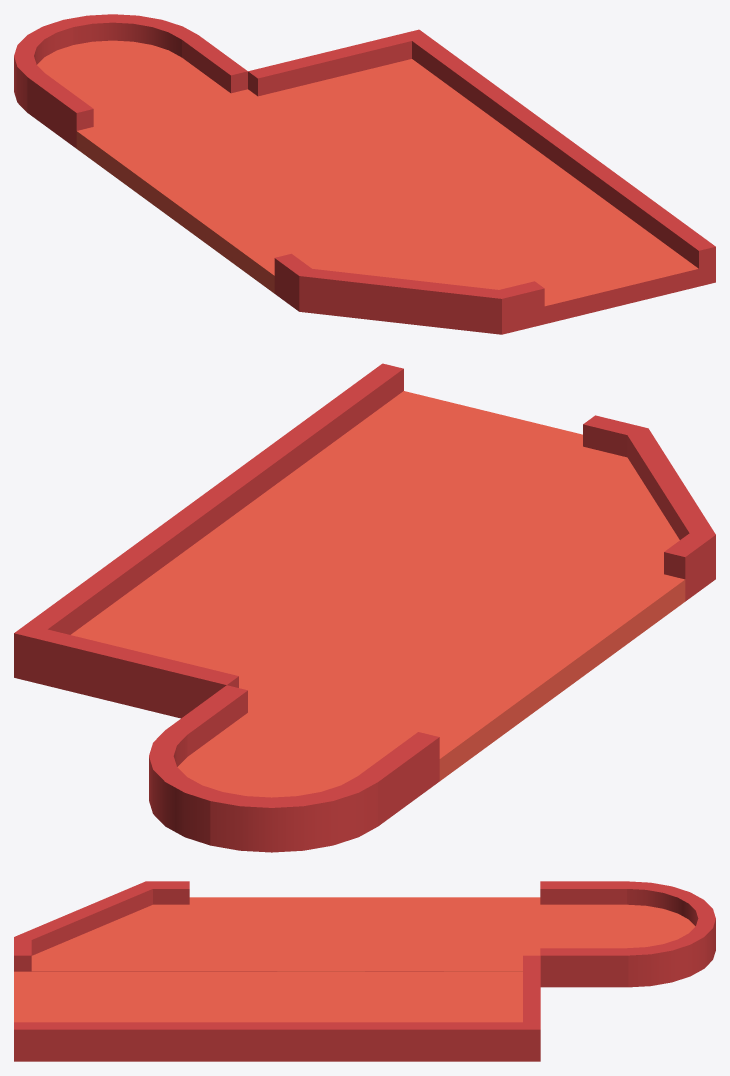
The model's file is Part1 Rotated.fbx.
3 views of the same model, one above another, from view 1: azimuth 30°, elevation 25°; view 2: azimuth 150°, elevation 25°; view 3: azimuth 270°, elevation 25° (orthographic). The views are drawn at different scales.
Parts seen in each view (by area): view 1: roof_flatEdge (×2), roof_flatCenter (×2), roof_flatCorner, roof_flatRoundOpen, roof_flatCornerLargeOpen; view 2: roof_flatEdge (×2), roof_flatCenter (×2), roof_flatCorner, roof_flatRoundOpen, roof_flatCornerLargeOpen; view 3: roof_flatEdge (×2), roof_flatCenter (×2), roof_flatRoundOpen, roof_flatCorner, roof_flatCornerLargeOpen.
Part boxes in pixels (x1,y1,x2,y2): roof_flatEdge (×2): (347, 102, 715, 323); roof_flatCenter (×2): (76, 89, 445, 293); roof_flatCorner: (248, 29, 517, 161); roof_flatRoundOpen: (14, 14, 247, 148); roof_flatCornerLargeOpen: (274, 234, 544, 334); roof_flatEdge (×2): (137, 363, 582, 617); roof_flatCenter (×2): (248, 527, 685, 780); roof_flatCorner: (14, 543, 349, 718); roof_flatRoundOpen: (149, 685, 439, 852); roof_flatCornerLargeOpen: (473, 415, 715, 601); roof_flatEdge (×2): (14, 971, 364, 1061); roof_flatCenter (×2): (189, 897, 540, 971); roof_flatRoundOpen: (540, 881, 715, 987); roof_flatCorner: (365, 955, 540, 1061); roof_flatCornerLargeOpen: (14, 881, 189, 971).
Size of the model in its own units: 20 by 2 by 40.
